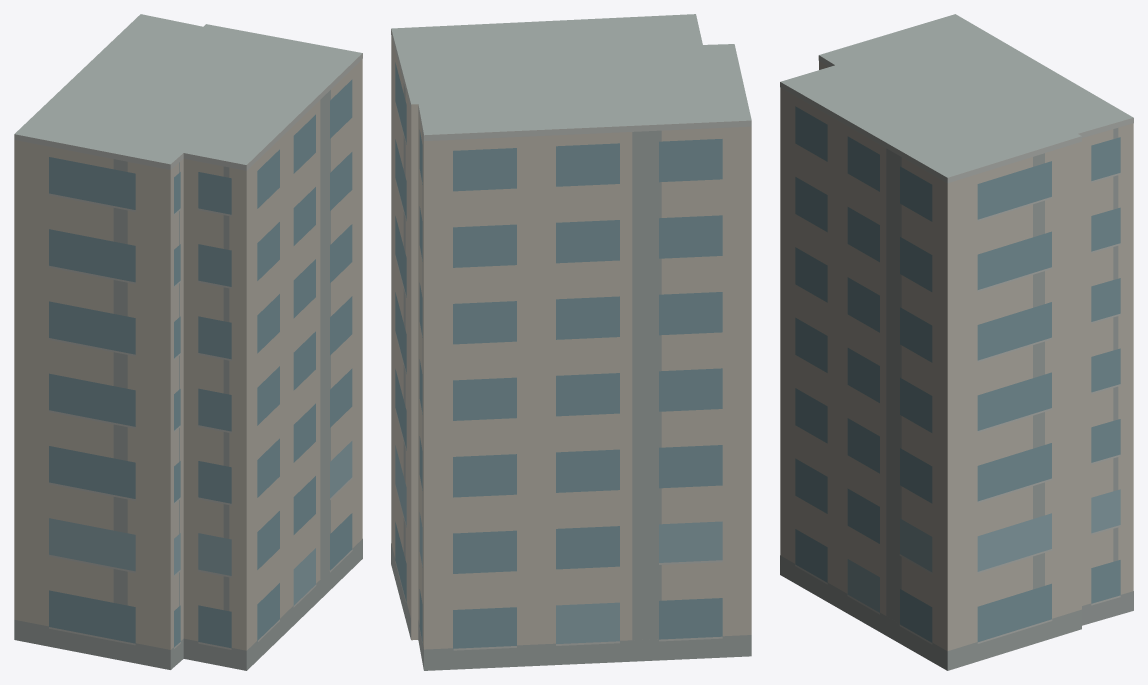
File: survey-upis-32561300.glb
3 renders of one model, left to right at view 1: azimuth 30°, elevation 25°; view 2: azimuth 150°, elevation 25°; view 3: azimuth 270°, elevation 25°, orthographic. The views are drawn at different scales.
Parts seen in each view (by area): view 1: survey-upis-32561300.tmp; view 2: survey-upis-32561300.tmp; view 3: survey-upis-32561300.tmp.
Boxes of the visible parts, box(x1,y1,x2,y2) form: survey-upis-32561300.tmp: box(14, 14, 362, 670); survey-upis-32561300.tmp: box(391, 14, 751, 670); survey-upis-32561300.tmp: box(780, 14, 1133, 670).
Bounding box in the file's own units: 15.48 × 21.7 × 14.11.
